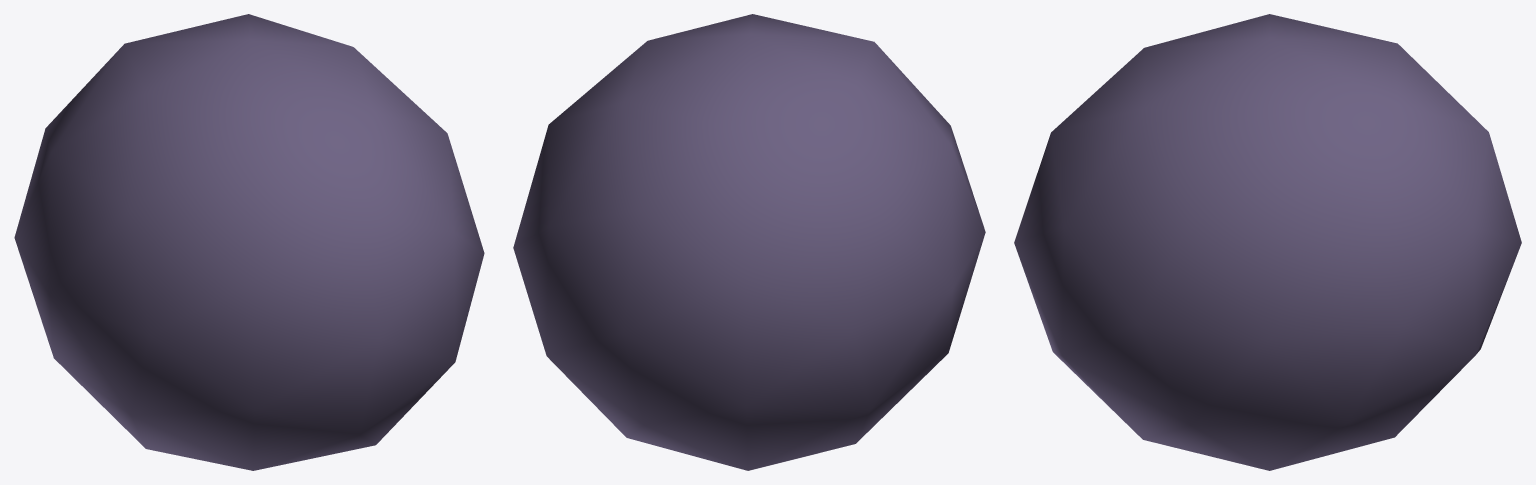
The model's file is cristi_leg.glb.
3 renders of one model, left to right at view 1: azimuth 30°, elevation 25°; view 2: azimuth 150°, elevation 25°; view 3: azimuth 270°, elevation 25°, orthographic.
Parts seen in each view (by area): view 1: cristi_leg; view 2: cristi_leg; view 3: cristi_leg.
Part boxes in pixels (bbox=[...]): cristi_leg: bbox=[14, 14, 484, 470]; cristi_leg: bbox=[513, 14, 985, 470]; cristi_leg: bbox=[1014, 14, 1521, 470].
Size of the model in its own units: 0.0907 by 0.0904 by 0.1003.
